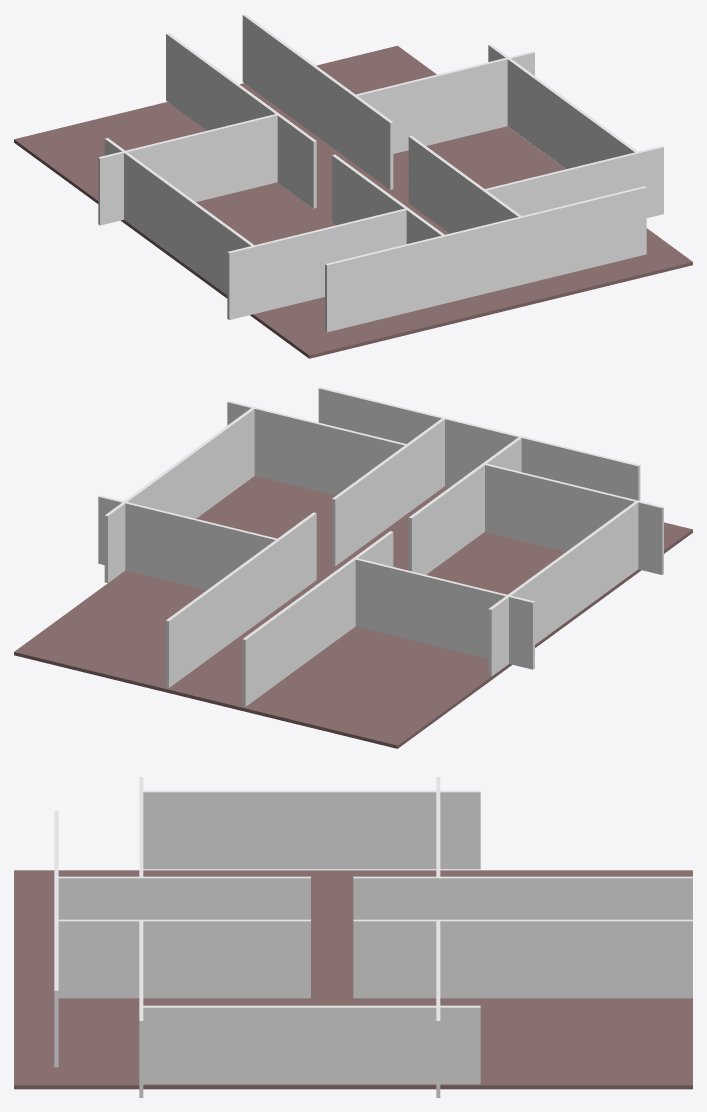
3 renders of one model, top to bottom at view 1: azimuth 30°, elevation 25°; view 2: azimuth 150°, elevation 25°; view 3: azimuth 270°, elevation 25°, orthographic. The views are drawn at different scales.
Visible parts, largest first — view 1: Box (×12); view 2: Box (×12); view 3: Box (×12).
Boxes of the visible parts, x1=… form: Box (×12): x1=14, y1=14, x2=692, y2=358; Box (×12): x1=14, y1=387, x2=692, y2=748; Box (×12): x1=14, y1=777, x2=692, y2=1097.
Bounding box in the file's own units: 68 × 10.75 × 80.
